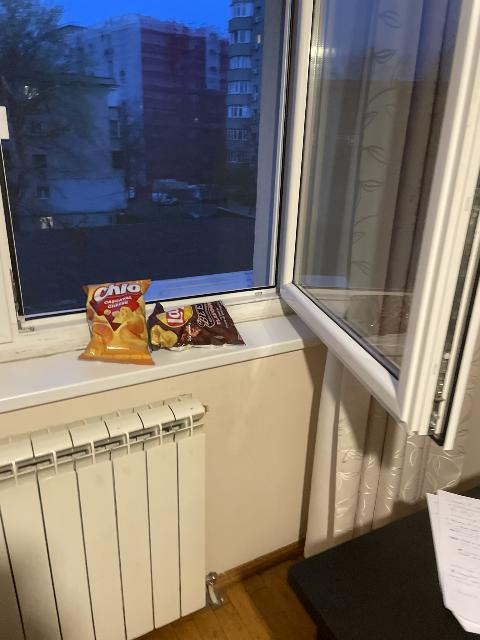Chio Cascaval 125g: (77, 280, 156, 363)
Lays Beef Grilled Ribs 125g: (149, 299, 246, 352)
